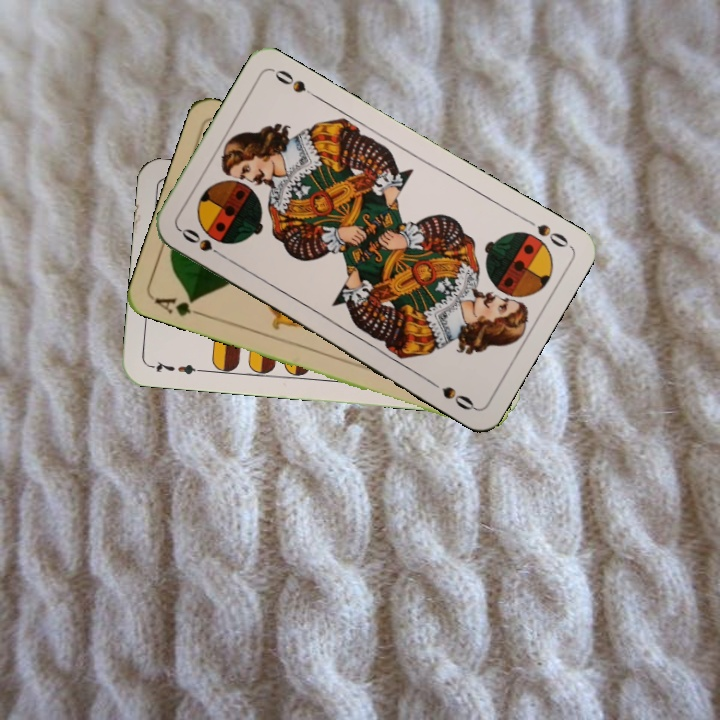E7: (146, 357, 205, 377)
GA: (151, 293, 208, 319)
SO: (176, 224, 229, 262), (533, 220, 572, 251)
